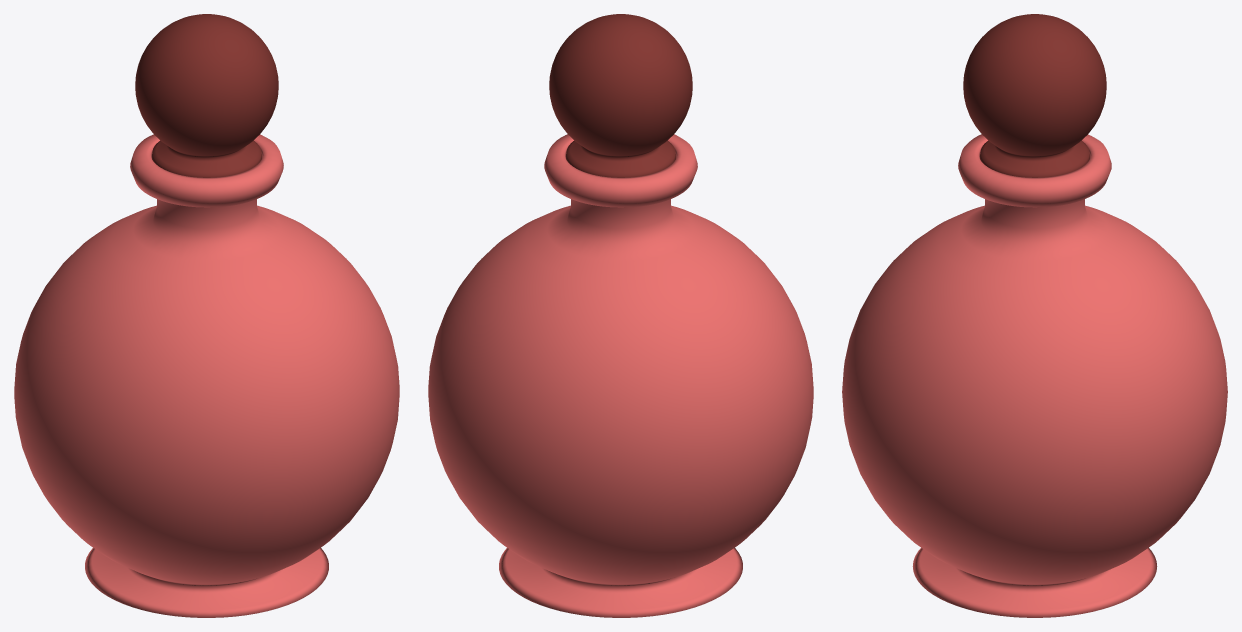
Rendered from potion.fbx.
3 renders of one model, left to right at view 1: azimuth 30°, elevation 25°; view 2: azimuth 150°, elevation 25°; view 3: azimuth 270°, elevation 25°, orthographic.
Visible parts, largest first — view 1: Round_Bottle; view 2: Round_Bottle; view 3: Round_Bottle.
Part boxes in pixels (x1=…): Round_Bottle: x1=14, y1=14, x2=399, y2=617; Round_Bottle: x1=428, y1=14, x2=813, y2=617; Round_Bottle: x1=842, y1=14, x2=1227, y2=617.
Bounding box in the file's own units: 51.09 × 79.93 × 51.09.
